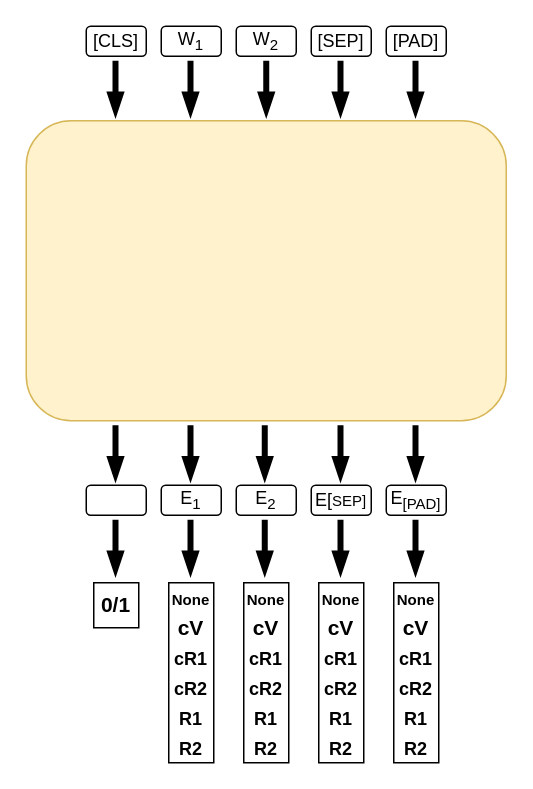
The diagram is 533 pixels wide and 789 high, and some of its shapes have lost their labels. The centre of each missing label's shape, as x and y in pixels:
BERT: the point at 265,270
E [CLS]: the point at 115,499
